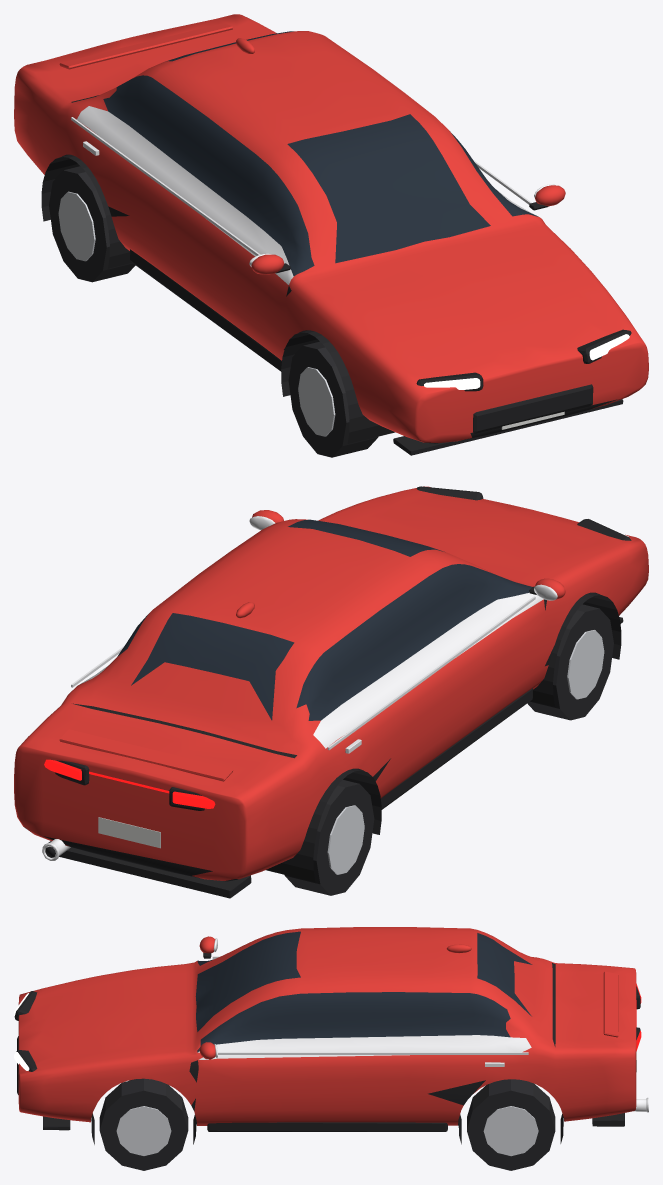
The model's file is regent_lod.glb.
3 views of the same model, one above another, from view 1: azimuth 30°, elevation 25°; view 2: azimuth 150°, elevation 25°; view 3: azimuth 270°, elevation 25° (orthographic). The views are drawn at different scales.
Parts seen in each view (by area): view 1: body, wheel_fr, wheel_rr; view 2: body, wheel_rr, wheel_fr; view 3: body, wheel_fl, wheel_rl.
Part boxes in pixels (x1=…): body: x1=14, y1=14, x2=648, y2=455; wheel_fr: x1=288, y1=341, x2=378, y2=457; wheel_rr: x1=49, y1=166, x2=135, y2=282; body: x1=14, y1=486, x2=648, y2=898; wheel_rr: x1=284, y1=780, x2=374, y2=895; wheel_fr: x1=527, y1=604, x2=613, y2=720; body: x1=14, y1=927, x2=648, y2=1144; wheel_fl: x1=99, y1=1078, x2=188, y2=1170; wheel_rl: x1=467, y1=1079, x2=555, y2=1170.
Size of the model in its own units: 2.18 by 1.53 by 5.02.
